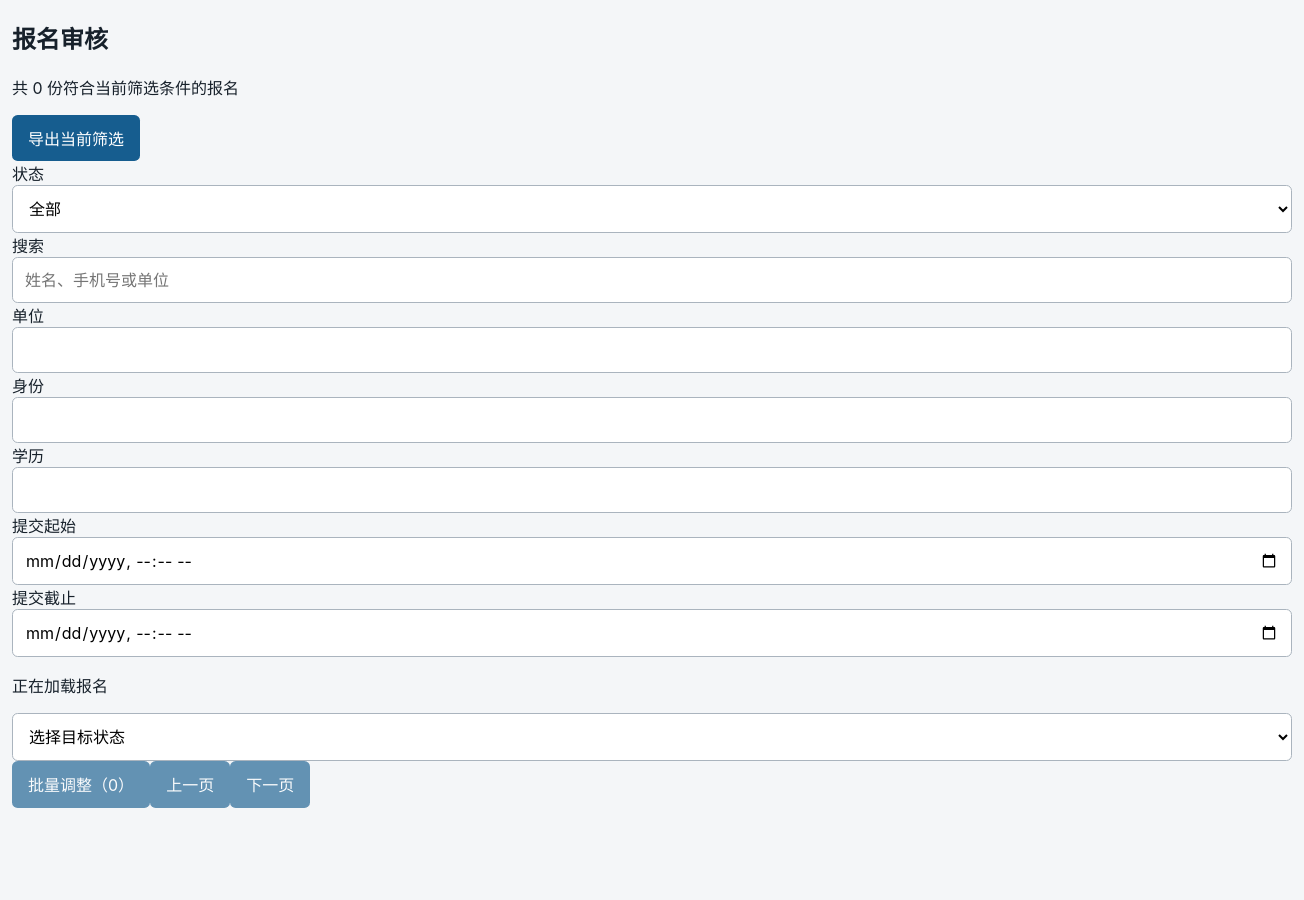
applications review list › ignores an older rejected response after a newer filter load succeeds
Type "新" into the field with placeholder "姓名、手机号或单位". click: {"x": 652, "y": 280}
box: [12,257,1292,303]
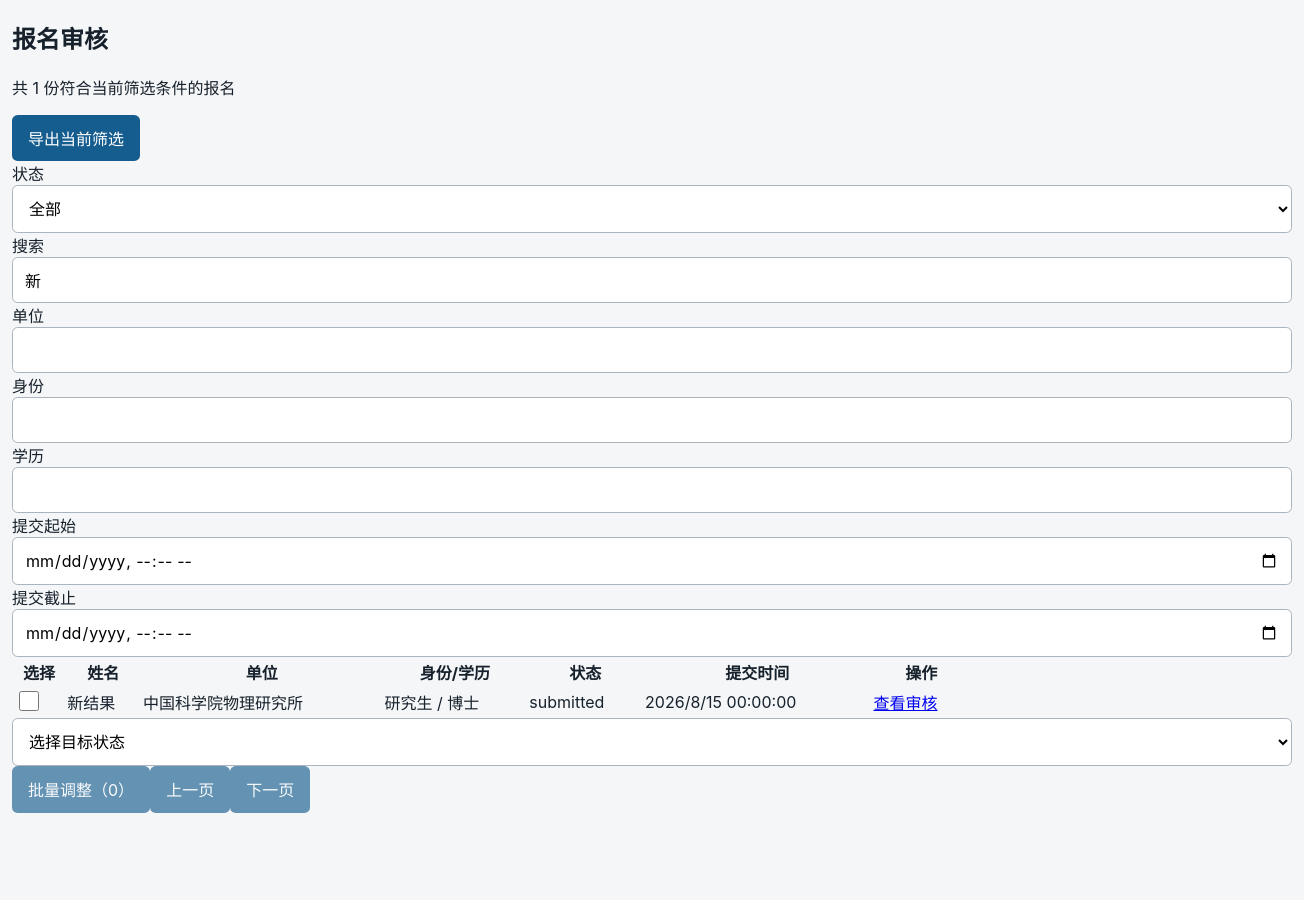
Result: the text "新结果" is shown at [66,687,140,716]
Result: the message "正在加载报名" is gone
